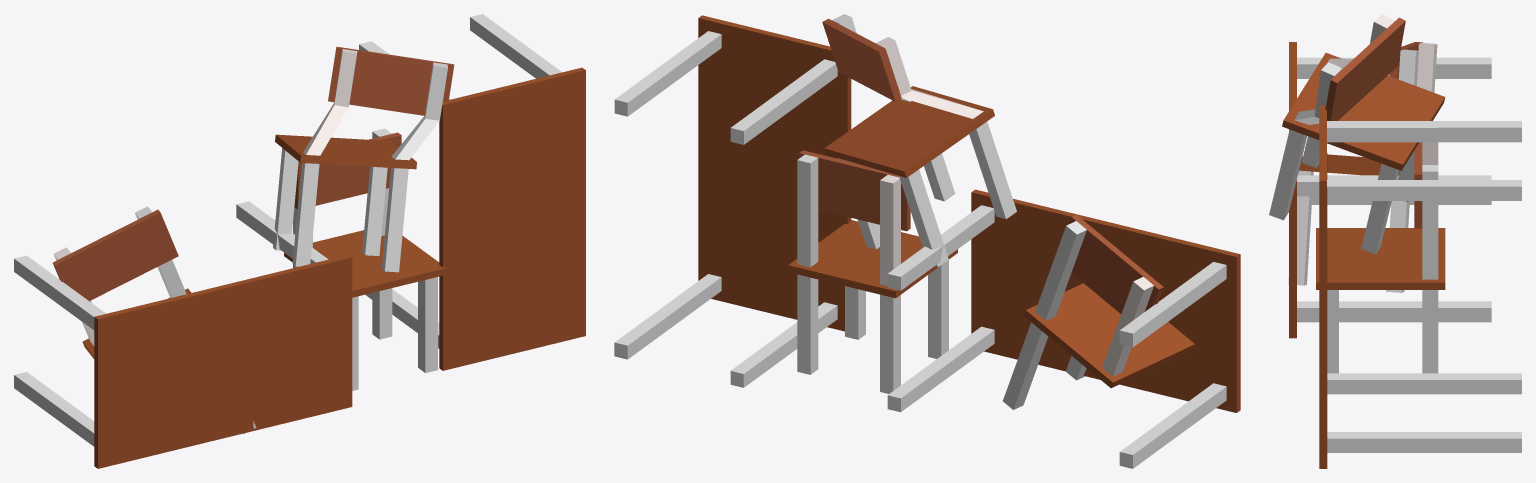
The model's file is tablesAndChairs v2.fbx.
3 views of the same model, side by side, from view 1: azimuth 30°, elevation 25°; view 2: azimuth 150°, elevation 25°; view 3: azimuth 270°, elevation 25° (orthographic). The views are drawn at different scales.
Parts seen in each view (by area): view 1: Cube.016, Cube.041, Cube.029, Cube.036, Cube.007, Cube.033, Cube.004, Cube.020, Cube.018, Cube.044, Cube.037, Cube.040 (+10 smaller); view 2: Cube.041, Cube.016, Cube.033, Cube.026, Cube.007, Cube.004, Cube.029, Cube.036, Cube.044, Cube.018, Cube.019, Cube.020 (+17 smaller); view 3: Cube.007, Cube.033, Cube.042, Cube.045, Cube.043, Cube.044, Cube.036, Cube.019, Cube.041, Cube.020, Cube.037, Cube.016 (+17 smaller).
Boxes of the visible parts, x1,y1,x2,y2 form: Cube.016: [94, 254, 352, 468]; Cube.041: [439, 67, 585, 370]; Cube.029: [53, 209, 178, 301]; Cube.036: [328, 46, 454, 115]; Cube.007: [284, 230, 446, 297]; Cube.033: [275, 134, 416, 169]; Cube.004: [294, 132, 401, 209]; Cube.020: [14, 255, 105, 330]; Cube.018: [14, 372, 94, 446]; Cube.044: [470, 14, 561, 78]; Cube.037: [381, 168, 408, 272]; Cube.040: [292, 163, 319, 266]; Cube.041: [698, 15, 851, 331]; Cube.016: [971, 189, 1240, 412]; Cube.033: [824, 86, 994, 177]; Cube.026: [1024, 283, 1194, 388]; Cube.007: [788, 220, 957, 298]; Cube.004: [799, 150, 910, 231]; Cube.029: [1069, 214, 1163, 314]; Cube.036: [822, 18, 901, 101]; Cube.044: [614, 31, 721, 116]; Cube.018: [1119, 383, 1226, 468]; Cube.019: [887, 326, 994, 412]; Cube.020: [1119, 262, 1226, 347]; Cube.007: [1316, 228, 1445, 289]; Cube.033: [1282, 52, 1445, 170]; Cube.042: [1327, 121, 1521, 142]; Cube.045: [1327, 373, 1521, 394]; Cube.043: [1327, 432, 1521, 452]; Cube.044: [1327, 180, 1521, 200]; Cube.036: [1325, 17, 1405, 120]; Cube.019: [1297, 301, 1491, 322]; Cube.041: [1319, 105, 1327, 468]; Cube.020: [1297, 57, 1491, 78]; Cube.037: [1269, 129, 1307, 220]; Cube.016: [1289, 42, 1296, 338].
Size of the model in its own units: 316 by 191 by 127.
